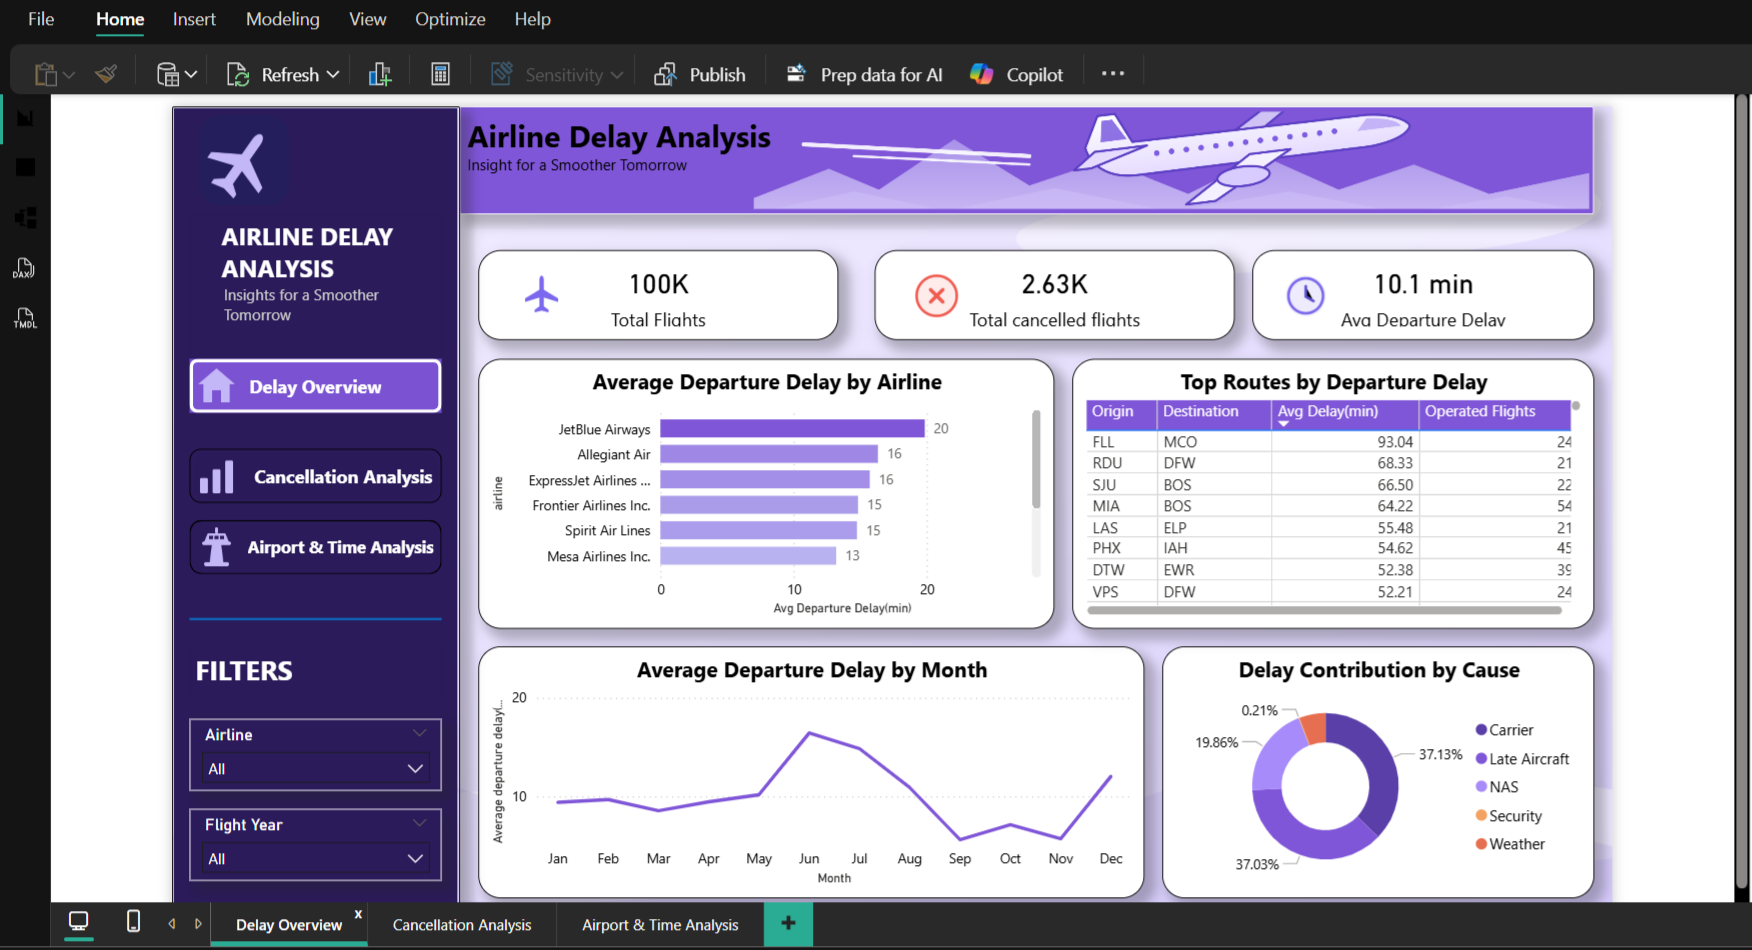

The dashboard page shown, as its layout file describes it:
{"tool":"powerbi","page":{"name":"Delay Overview","canvas":[1280,720],"ordinal":0},"visuals":[{"type":"textbox","box":[256,0,1008,96],"z":0},{"type":"card","fields":{"Values":["CountNonNull(public flights.fl_number)"]},"box":[272,128,320,80],"z":1000},{"type":"card","fields":{"Values":["Sum(public flights.cancelled)"]},"box":[624,128,320,80],"z":2000},{"type":"card","fields":{"Values":["public flights.Avg Delay Text"]},"box":[960,128,304,80],"z":3000},{"type":"clusteredBarChart","title":"Average Departure Delay by Airline","fields":{"Category":["public flights.airline"],"Y":["Avg(public flights.dep_delay)"]},"box":[272,224,512,240],"z":4000},{"type":"lineChart","title":"Average Departure Delay by Month","fields":{"Y":["Avg(public flights.dep_delay)"],"Category":["public flights.Month Short"]},"box":[272,480,592,224],"z":5000},{"type":"donutChart","title":"Delay Contribution by Cause","fields":{"Y":["public flights.Total Carrier Delay","public flights.Total Late Aircraft Delay","public flights.Total NAS Delay","public flights.Total Security Delay","public flights.Total Weather Delay"]},"box":[880,480,384,224],"z":6000},{"type":"shape","box":[0,0,256,720],"z":7000},{"type":"slicer","fields":{"Values":["public flights.airline"]},"box":[16,544,224,64],"z":8000},{"type":"textbox","box":[16,96,224,128],"z":9000},{"type":"actionButton","box":[16,224,224,48],"z":10000},{"type":"actionButton","box":[16,304,224,48],"z":11000},{"type":"image","box":[16,0,96,96],"z":12000},{"type":"image","box":[16,224,48,48],"z":13000},{"type":"image","box":[16,304,48,48],"z":14000},{"type":"textbox","box":[16,480,224,48],"z":15000},{"type":"shape","box":[16,448,224,16],"z":16000},{"type":"image","box":[512,0,752,96],"z":17000},{"type":"image","box":[656,144,48,48],"z":18000},{"type":"image","box":[976,144,64,48],"z":19000},{"type":"image","box":[304,144,48,48],"z":20000},{"type":"tableEx","title":"Top Routes by Departure Delay","fields":{"Values":["public flights.origin","public flights.dest","public flights.Avg Dep Delay","public flights.Operated Flights"]},"box":[800,224,464,240],"z":21000},{"type":"slicer","fields":{"Values":["public flights.Flight Year"]},"box":[16,624,224,64],"z":22000},{"type":"actionButton","box":[16,368,224,48],"z":23000},{"type":"image","box":[16,368,48,48],"z":23001}]}

Visuals, with their boxes on the page's 1280x720 design canvas (x1, y1, x2, y2). These are canvas units, not pixel positions in the 1752x950 screenshot, which may show the page scaled, cropped or inside an application window:
textbox: pyautogui.locateOnScreen(256, 0, 1264, 96)
card - CountNonNull(public flights.fl_number): pyautogui.locateOnScreen(272, 128, 592, 208)
card - Sum(public flights.cancelled): pyautogui.locateOnScreen(624, 128, 944, 208)
card - public flights.Avg Delay Text: pyautogui.locateOnScreen(960, 128, 1264, 208)
"Average Departure Delay by Airline" clusteredBarChart: pyautogui.locateOnScreen(272, 224, 784, 464)
"Average Departure Delay by Month" lineChart: pyautogui.locateOnScreen(272, 480, 864, 704)
"Delay Contribution by Cause" donutChart: pyautogui.locateOnScreen(880, 480, 1264, 704)
shape: pyautogui.locateOnScreen(0, 0, 256, 720)
slicer - public flights.airline: pyautogui.locateOnScreen(16, 544, 240, 608)
textbox: pyautogui.locateOnScreen(16, 96, 240, 224)
actionButton: pyautogui.locateOnScreen(16, 224, 240, 272)
actionButton: pyautogui.locateOnScreen(16, 304, 240, 352)
image: pyautogui.locateOnScreen(16, 0, 112, 96)
image: pyautogui.locateOnScreen(16, 224, 64, 272)
image: pyautogui.locateOnScreen(16, 304, 64, 352)
textbox: pyautogui.locateOnScreen(16, 480, 240, 528)
shape: pyautogui.locateOnScreen(16, 448, 240, 464)
image: pyautogui.locateOnScreen(512, 0, 1264, 96)
image: pyautogui.locateOnScreen(656, 144, 704, 192)
image: pyautogui.locateOnScreen(976, 144, 1040, 192)
image: pyautogui.locateOnScreen(304, 144, 352, 192)
"Top Routes by Departure Delay" tableEx: pyautogui.locateOnScreen(800, 224, 1264, 464)
slicer - public flights.Flight Year: pyautogui.locateOnScreen(16, 624, 240, 688)
actionButton: pyautogui.locateOnScreen(16, 368, 240, 416)
image: pyautogui.locateOnScreen(16, 368, 64, 416)
